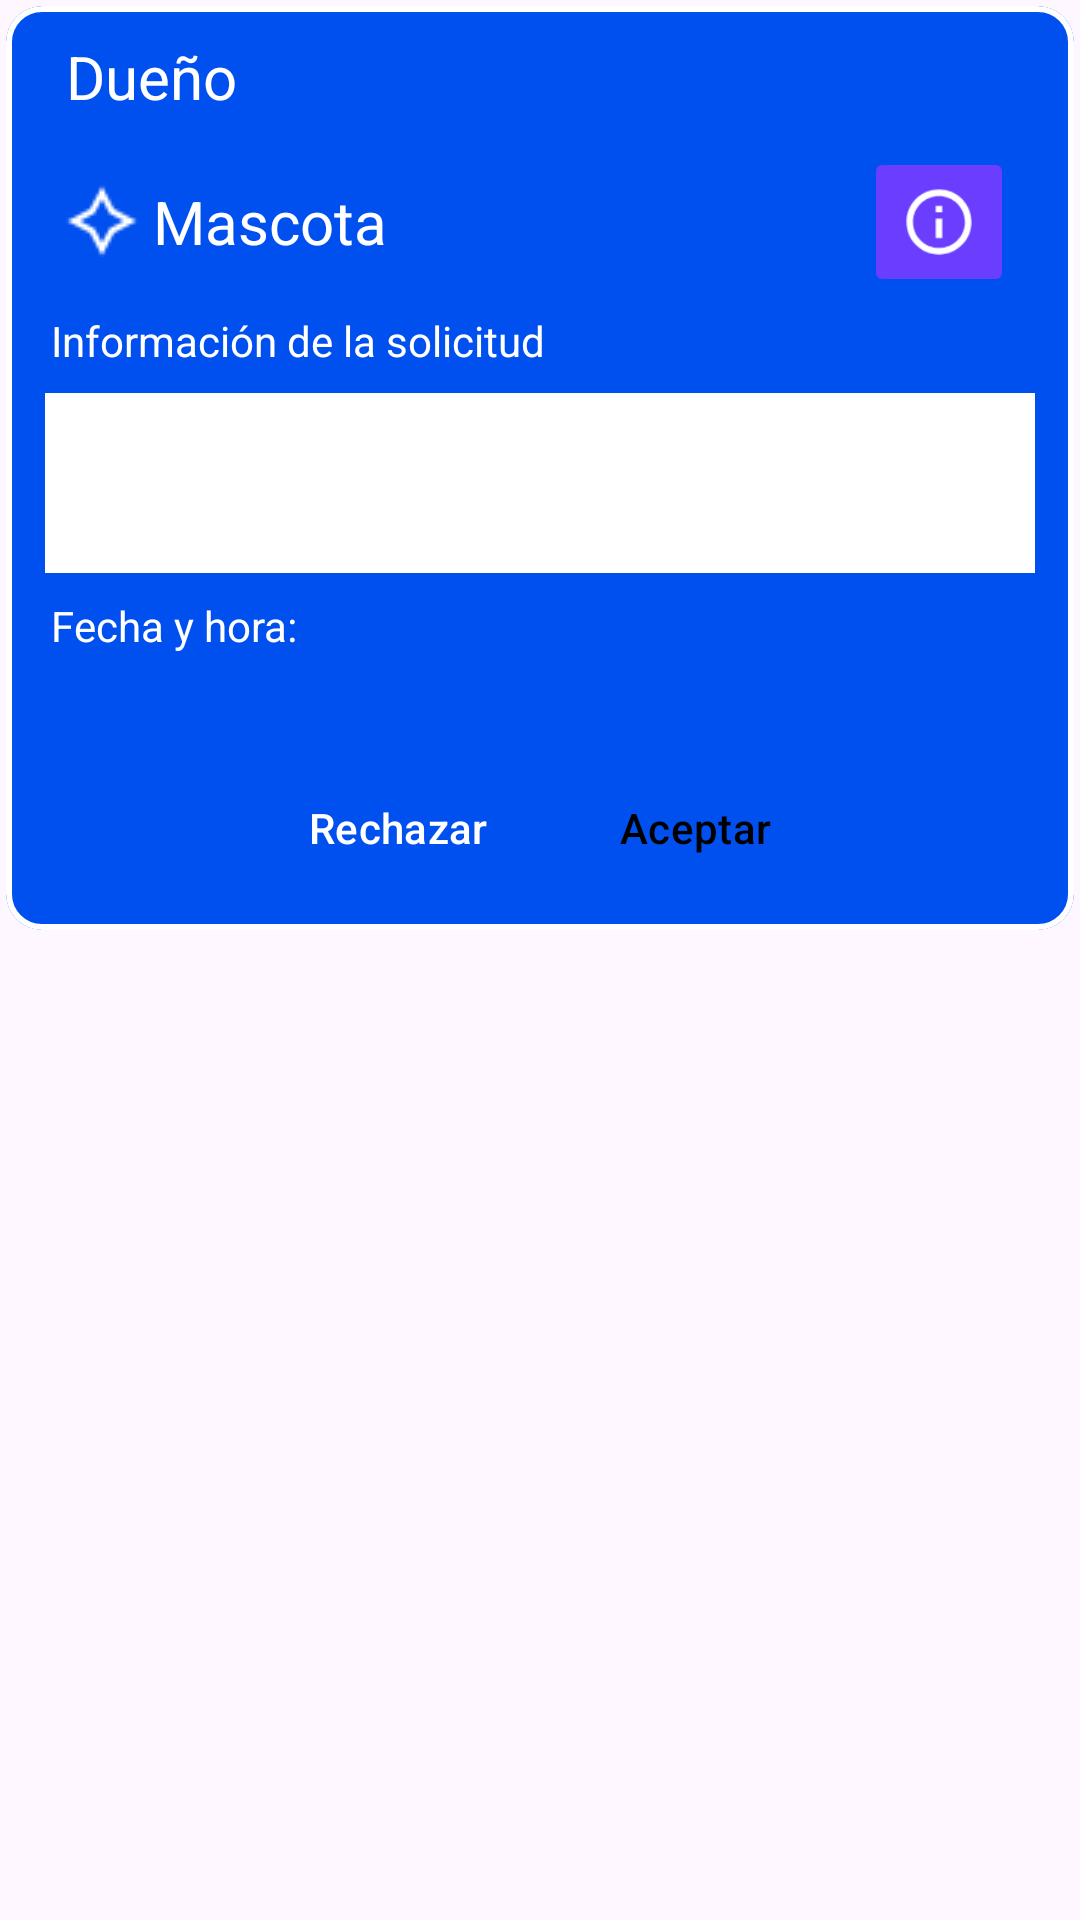

Where icons sit on this 1080px×1920px app screen, as box(x1, y1, x2, y2):
Pet information button: box(876, 165, 1002, 279)
